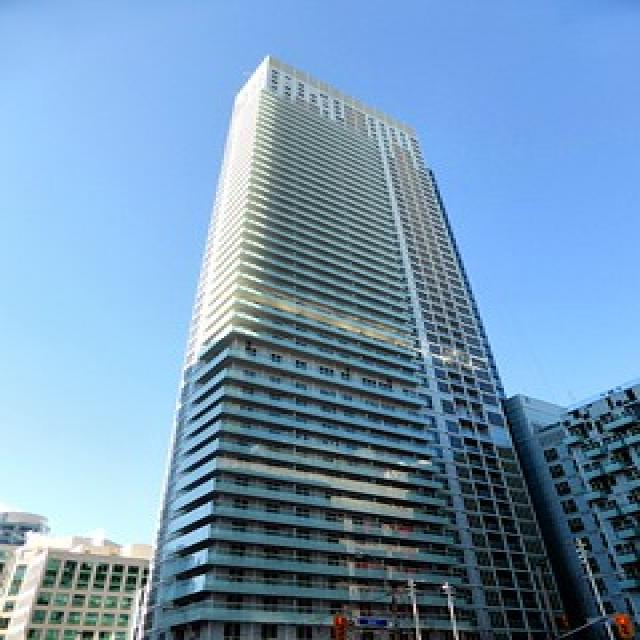Normal_building: (132, 50, 583, 640)
